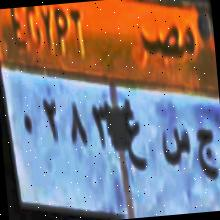0: (17, 102, 40, 150)
2: (40, 91, 61, 147)
3: (88, 97, 112, 159)
8: (68, 98, 88, 157)
ghayn: (120, 94, 149, 180)
jeem: (194, 117, 220, 188)
seen: (158, 117, 194, 178)
